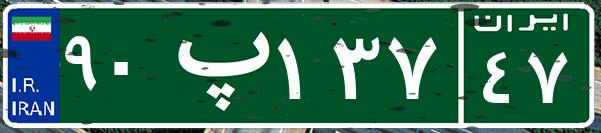0: (110, 28, 158, 105)
1: (273, 28, 330, 110)
3: (330, 28, 385, 110)
4: (475, 38, 525, 113)
7: (385, 28, 445, 110), (525, 38, 570, 115)
9: (57, 26, 110, 107)
پ: (158, 15, 273, 115)
